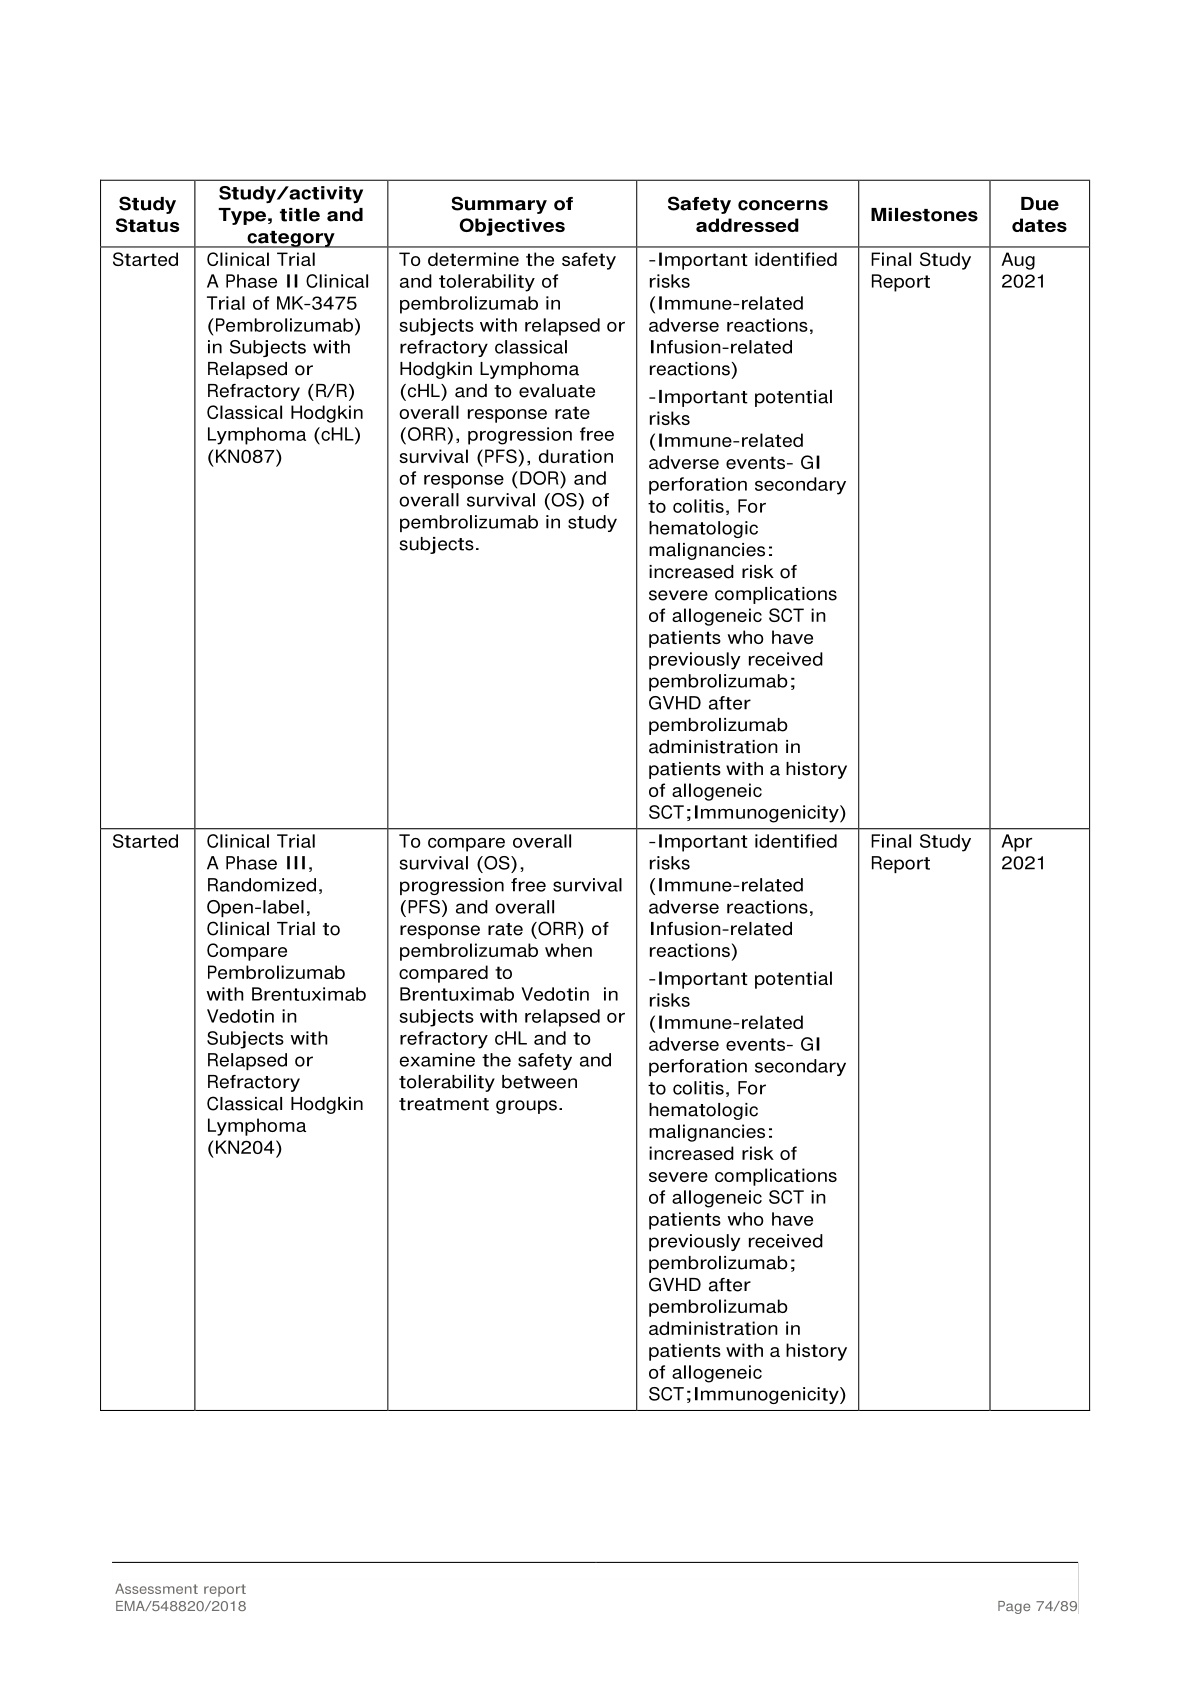full_lined: (99, 179, 1091, 1412)
